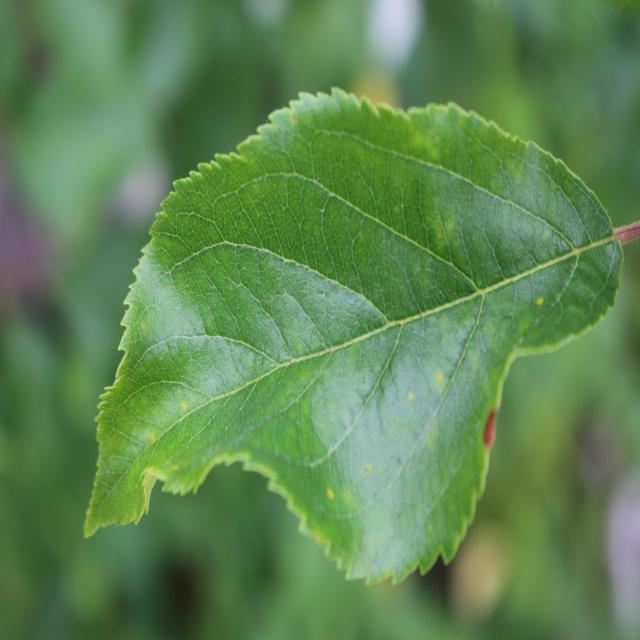Rust: (455, 395, 511, 458)
